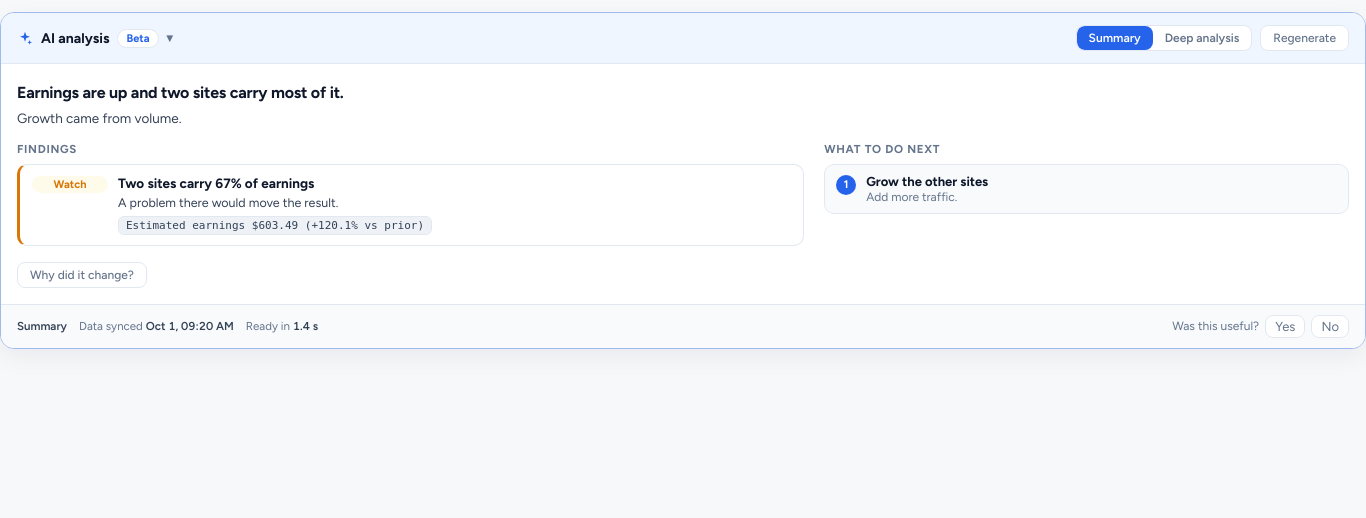
Test: deep analysis runs only when asked and shows the deep dive
The image size is (1366, 518).
Click the button "Deep analysis": x=1202, y=38 [1153,26,1251,50]
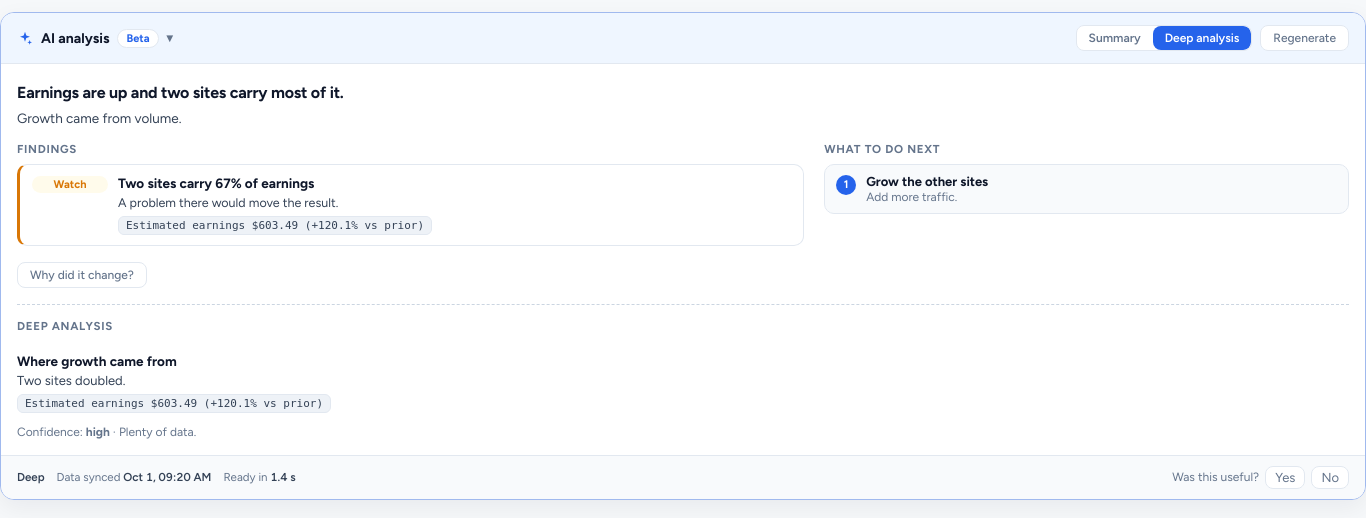
Expected: the text "Where growth came from" is shown, [17,353,177,369]
Expected: the text "Confidence: high" is shown, [17,425,196,439]
